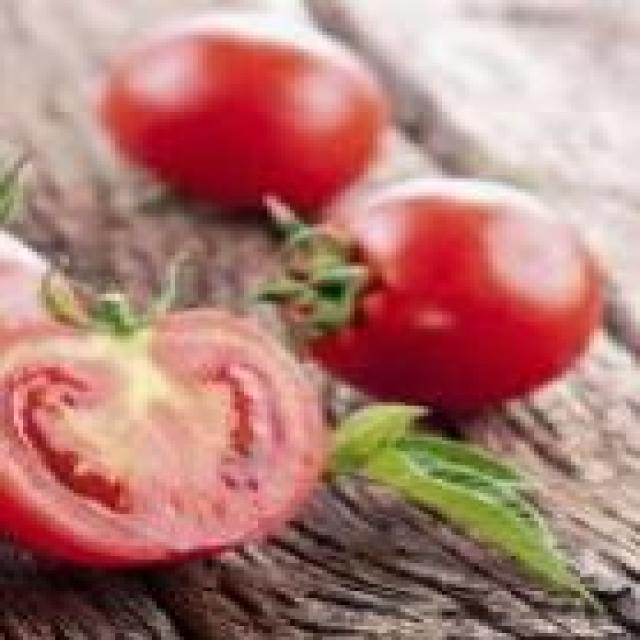Healthy: (274, 168, 612, 406), (101, 17, 387, 194)
